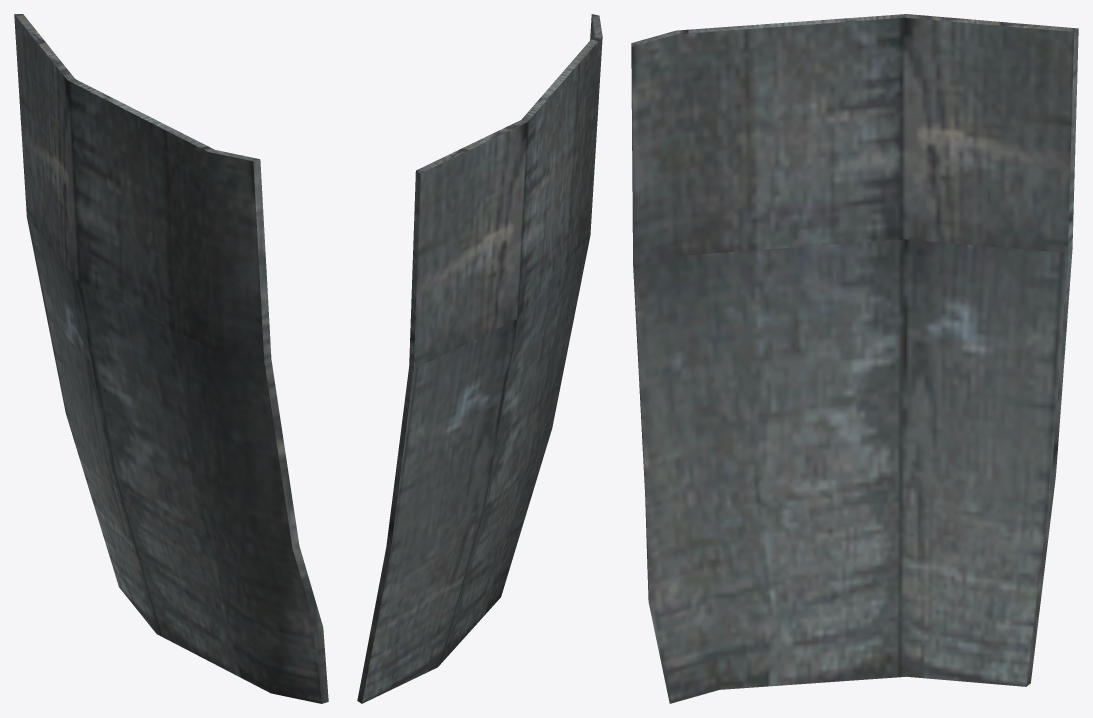
File: flower_barrel_p5.glb
The picture shows the model from 3 angles, left to right: view 1: azimuth 30°, elevation 25°; view 2: azimuth 150°, elevation 25°; view 3: azimuth 270°, elevation 25°; orthographic projection. The views are drawn at different scales.
Visible parts, largest first — view 1: flower_barrel_p5; view 2: flower_barrel_p5; view 3: flower_barrel_p5.
Part boxes in pixels (<box>): flower_barrel_p5: <box>14,14,328,703</box>; flower_barrel_p5: <box>357,14,602,703</box>; flower_barrel_p5: <box>631,14,1078,703</box>.
Size of the model in its own units: 0.1194 by 0.439 by 0.2907.
Materials: 1 (1 with a texture image).
